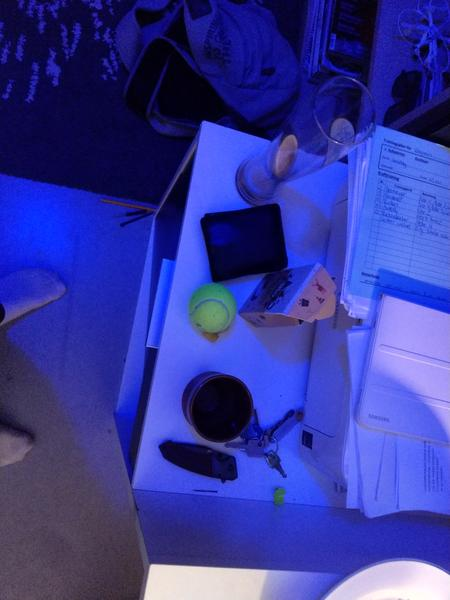Tennisball: (186, 279, 241, 335)
